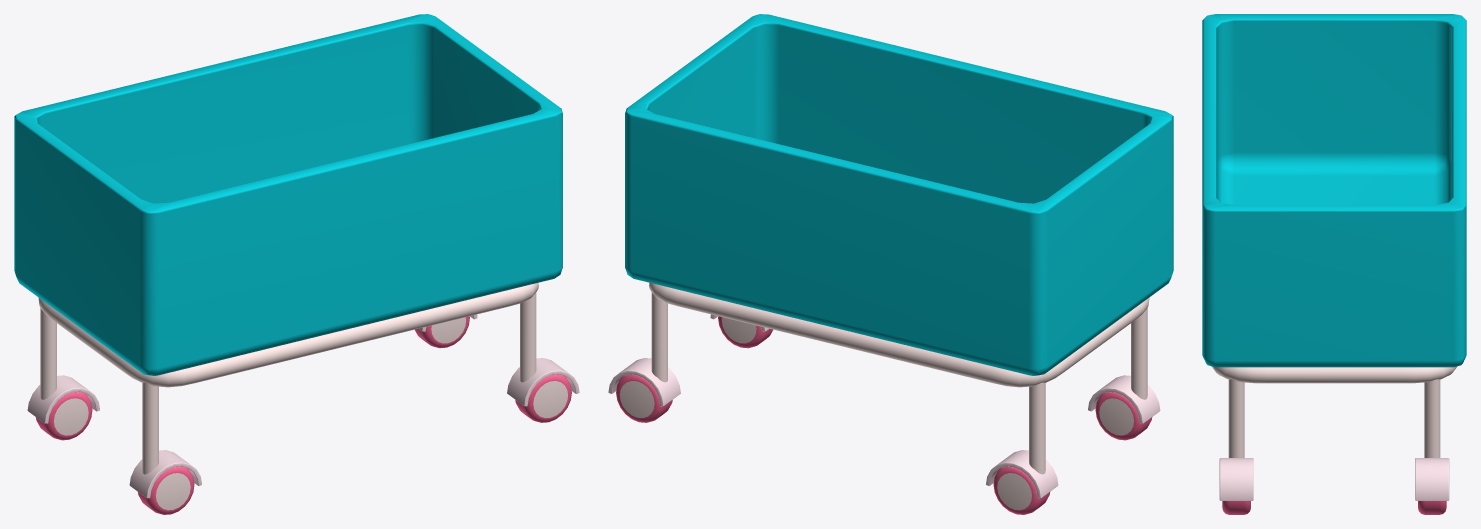
The model's file is Public_13_Cart_On_Wheels_1.glb.
3 views of the same model, side by side, from view 1: azimuth 30°, elevation 25°; view 2: azimuth 150°, elevation 25°; view 3: azimuth 270°, elevation 25° (orthographic). The views are drawn at different scales.
Parts seen in each view (by area): view 1: Public_13_Cart_On_Wheels_1; view 2: Public_13_Cart_On_Wheels_1; view 3: Public_13_Cart_On_Wheels_1.
Boxes of the visible parts, box(x1,y1,x2,y2) form: Public_13_Cart_On_Wheels_1: box(14, 14, 579, 514); Public_13_Cart_On_Wheels_1: box(608, 14, 1173, 514); Public_13_Cart_On_Wheels_1: box(1202, 14, 1466, 514).
Bounding box in the file's own units: 1.89 × 1.31 × 1.02.
Materials: 1 (1 with a texture image).
